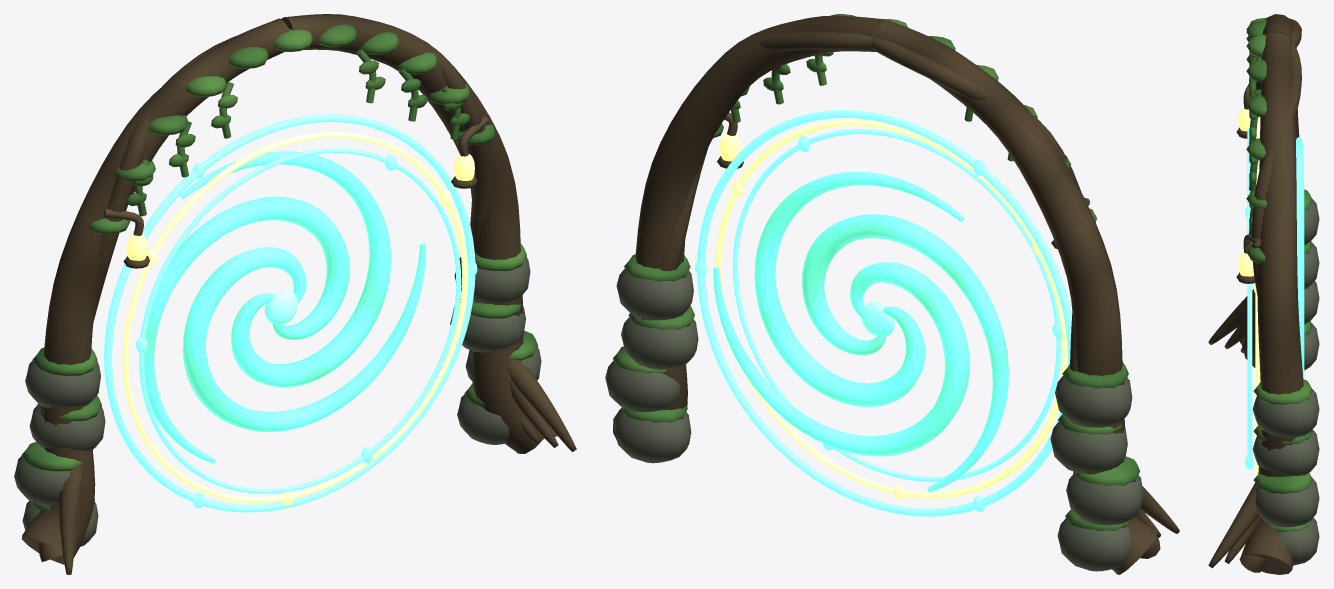
Rendered from portal-pantano.glb.
The picture shows the model from 3 angles, left to right: view 1: azimuth 30°, elevation 25°; view 2: azimuth 150°, elevation 25°; view 3: azimuth 270°, elevation 25°; orthographic projection. The views are drawn at different scales.
Visible parts, largest first — view 1: Marco de manglar, Corazón de corriente, Aro 0, Aro 1, Aro 2, Semillas cálidas fijas; view 2: Marco de manglar, Corazón de corriente, Aro 0, Aro 1, Aro 2; view 3: Marco de manglar, Corazón de corriente, Aro 2, Aro 1, Semillas cálidas fijas.
Part boxes in pixels (x1=…): Marco de manglar: x1=14, y1=14, x2=576, y2=574; Corazón de corriente: x1=140, y1=151, x2=425, y2=463; Aro 0: x1=104, y1=114, x2=477, y2=512; Aro 1: x1=122, y1=132, x2=468, y2=504; Aro 2: x1=136, y1=148, x2=461, y2=493; Semillas cálidas fijas: x1=126, y1=154, x2=474, y2=260; Marco de manglar: x1=605, y1=14, x2=1179, y2=574; Corazón de corriente: x1=713, y1=171, x2=1008, y2=491; Aro 0: x1=695, y1=110, x2=1071, y2=516; Aro 1: x1=715, y1=119, x2=1067, y2=500; Aro 2: x1=732, y1=129, x2=1061, y2=481; Marco de manglar: x1=1208, y1=14, x2=1319, y2=574; Corazón de corriente: x1=1296, y1=137, x2=1304, y2=379; Aro 2: x1=1245, y1=127, x2=1254, y2=468; Aro 1: x1=1254, y1=117, x2=1260, y2=475; Semillas cálidas fijas: x1=1238, y1=107, x2=1253, y2=276.
Size of the model in its own units: 10.17 by 9.01 by 2.06.
